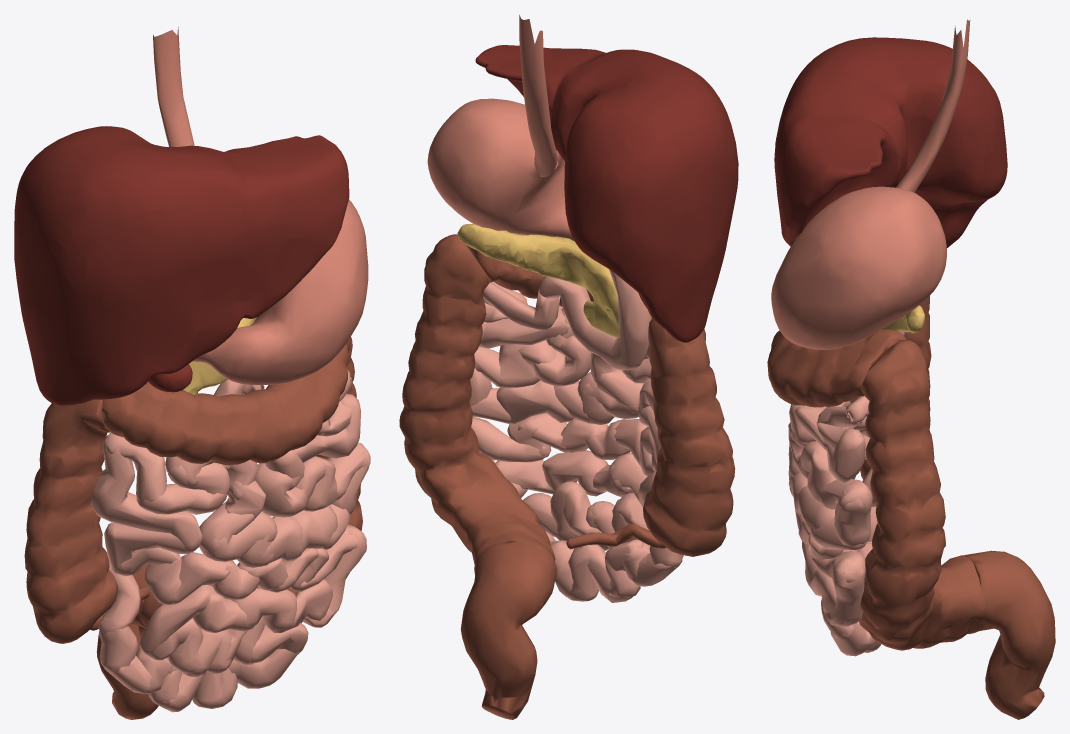
File: digestive.glb
The picture shows the model from 3 angles, left to right: view 1: azimuth 30°, elevation 25°; view 2: azimuth 150°, elevation 25°; view 3: azimuth 270°, elevation 25°; orthographic projection. The views are drawn at different scales.
Visible parts, largest first — view 1: liver, villi, colon, stomach, esophagus, pancreas; view 2: colon, villi, liver, stomach, pancreas, esophagus; view 3: colon, liver, stomach, villi, esophagus, pancreas.
Boxes of the visible parts, left/top/right/bottom form: liver: left=14, top=126, right=349, bottom=405; villi: left=90, top=370, right=370, bottom=712; colon: left=24, top=337, right=362, bottom=719; stomach: left=192, top=199, right=368, bottom=384; esophagus: left=153, top=26, right=194, bottom=146; pancreas: left=183, top=317, right=256, bottom=394; colon: left=399, top=234, right=735, bottom=719; villi: left=469, top=269, right=683, bottom=602; liver: left=475, top=45, right=738, bottom=342; stomach: left=427, top=98, right=573, bottom=240; pancreas: left=457, top=224, right=619, bottom=337; esophagus: left=519, top=14, right=557, bottom=177; colon: left=767, top=296, right=1055, bottom=719; liver: left=774, top=37, right=1007, bottom=247; stomach: left=771, top=186, right=946, bottom=349; villi: left=788, top=331, right=905, bottom=656; esophagus: left=896, top=19, right=970, bottom=192; pancreas: left=879, top=305, right=924, bottom=333.
Bounding box in the file's own units: 1.27 × 2.6 × 0.9645.
